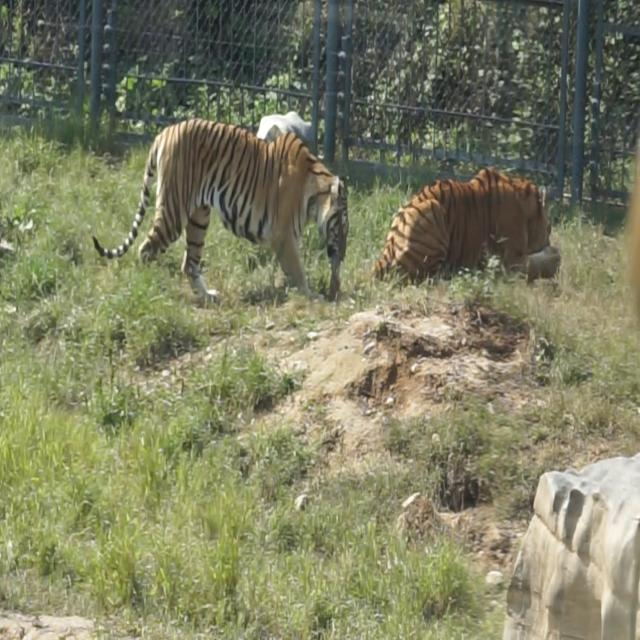Tiger: (86, 98, 354, 322), (370, 163, 561, 280)
